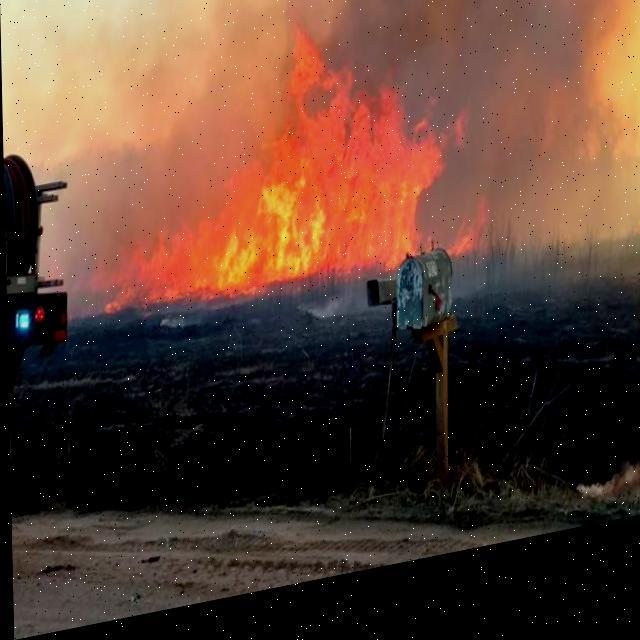Fire: (86, 27, 485, 328)
